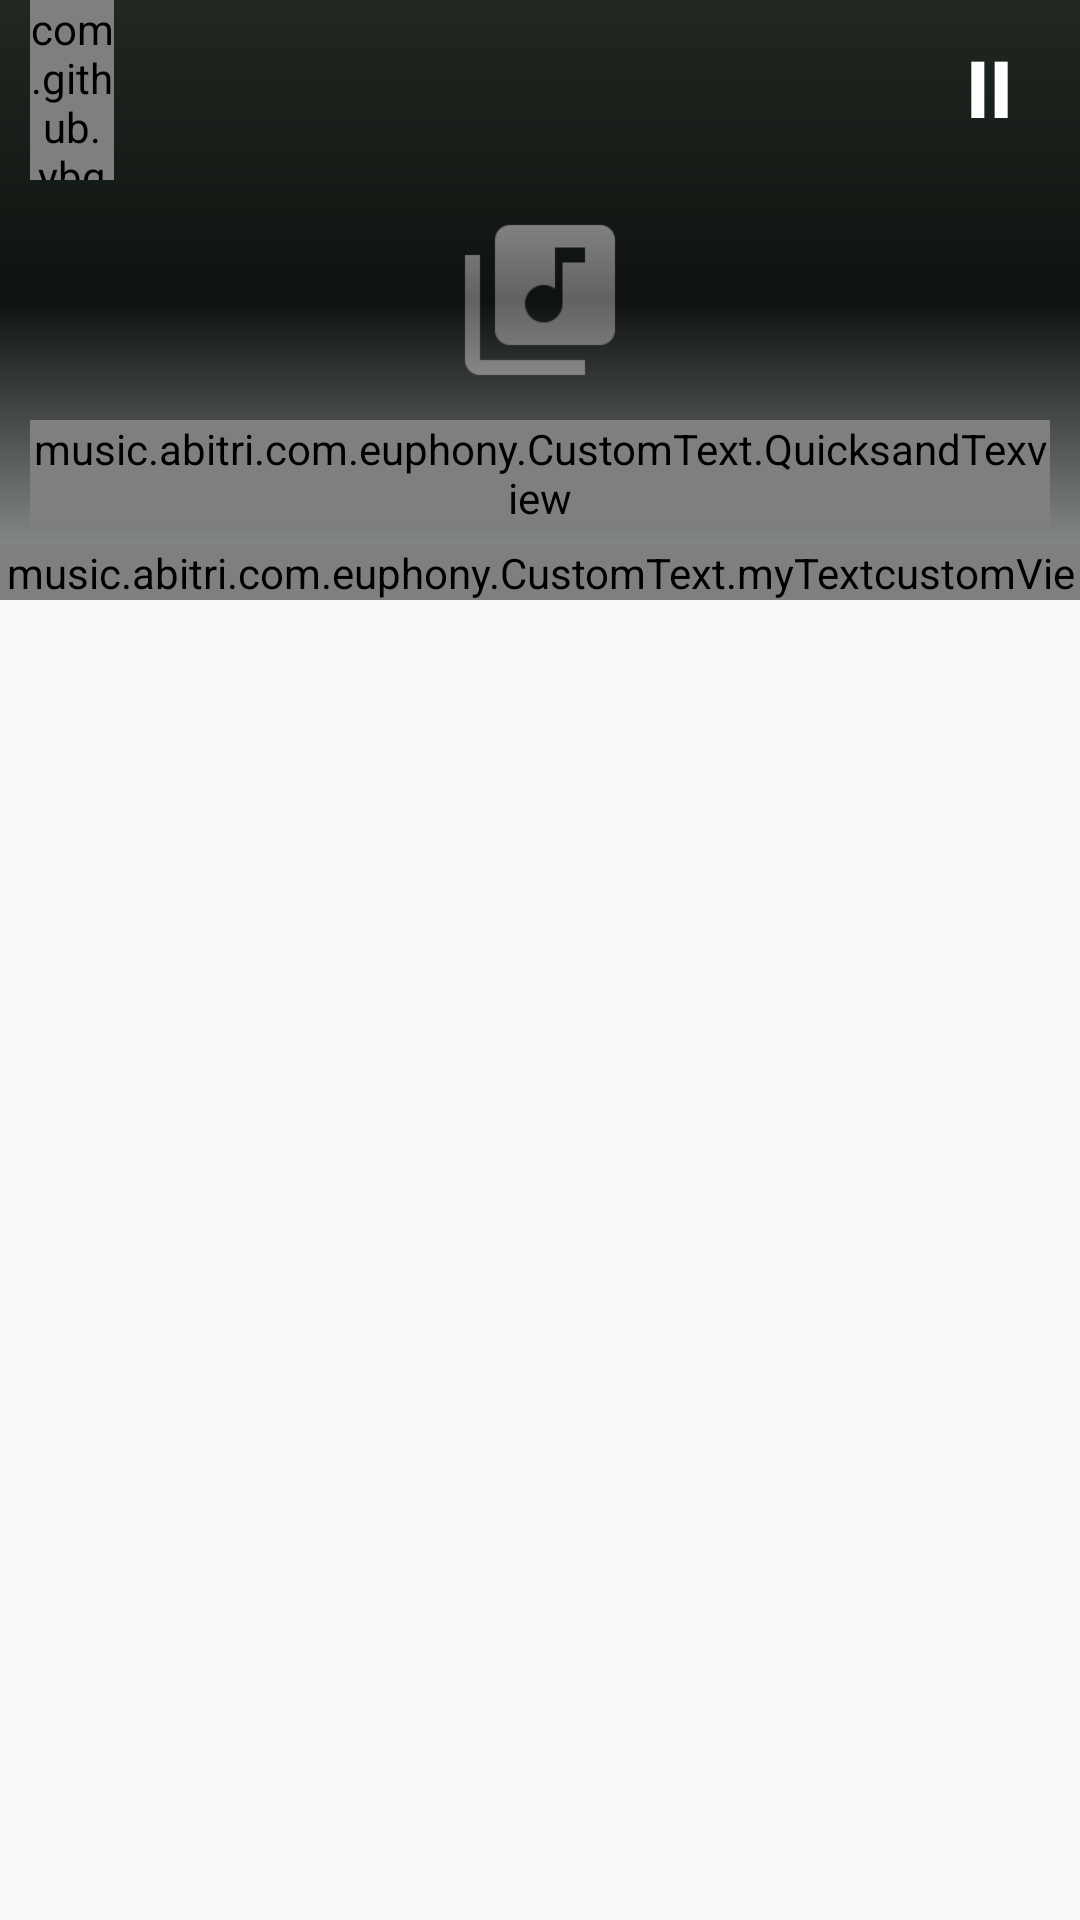

Named icons in this screenshot (1080px x 1920px) and their centers, [x,y]:
pause: [989,89]
